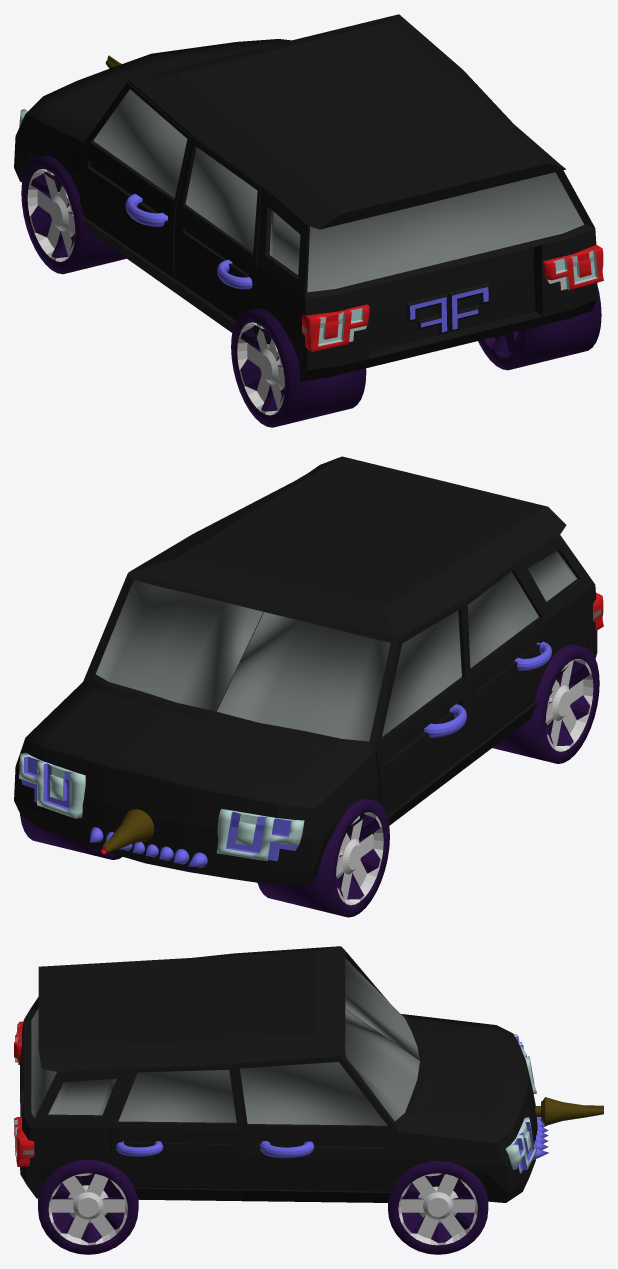
The model's file is Aligatank.fbx.
3 views of the same model, one above another, from view 1: azimuth 30°, elevation 25°; view 2: azimuth 150°, elevation 25°; view 3: azimuth 270°, elevation 25° (orthographic). The views are drawn at different scales.
Visible parts, largest first — view 1: aligatank, Cylinder.003, Cylinder.002, Cylinder.000; view 2: aligatank, Cylinder.002, Cylinder.003, weapon, Cylinder.001; view 3: aligatank, Cylinder.000, Cylinder.001, weapon.
Boxes of the visible parts, x1,y1,x2,y2 form: aligatank: (14,14,603,381); Cylinder.003: (231,308,366,427); Cylinder.002: (21,155,126,274); Cylinder.000: (478,285,601,370); aligatank: (14,456,603,884); Cylinder.002: (257,798,389,917); Cylinder.003: (492,644,599,763); weapon: (101,809,154,854); Cylinder.001: (20,814,122,859); aligatank: (14,946,548,1202); Cylinder.000: (38,1159,138,1254); Cylinder.001: (388,1161,488,1254); weapon: (535,1097,603,1125).
Size of the model in its own units: 312 by 216 by 581.
